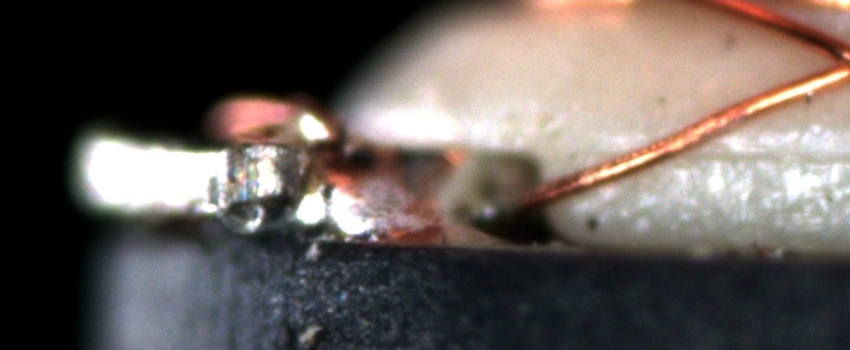CL: (804, 30, 850, 91)
DL: (686, 124, 850, 188)
